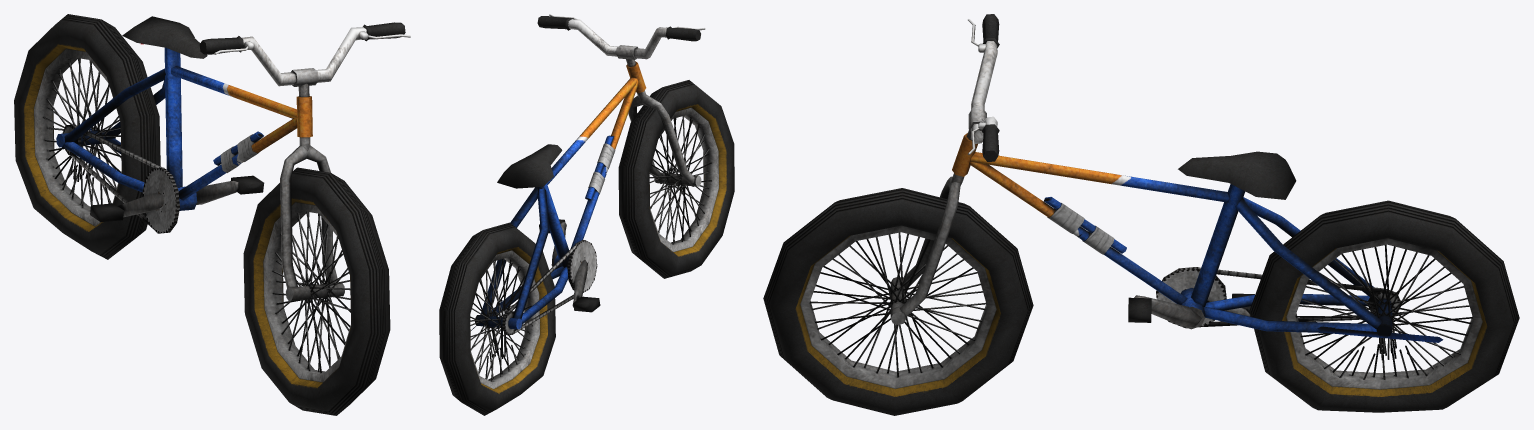
The model's file is bike.fbx.
The picture shows the model from 3 angles, left to right: view 1: azimuth 30°, elevation 25°; view 2: azimuth 150°, elevation 25°; view 3: azimuth 270°, elevation 25°; orthographic projection. The views are drawn at different scales.
Parts seen in each view (by area): view 1: Bike; view 2: Bike; view 3: Bike.
Part boxes in pixels (<box>): Bike: <box>14,14,410,415</box>; Bike: <box>439,14,734,415</box>; Bike: <box>763,14,1519,415</box>.
Size of the model in its own units: 917 by 1525 by 2805.
